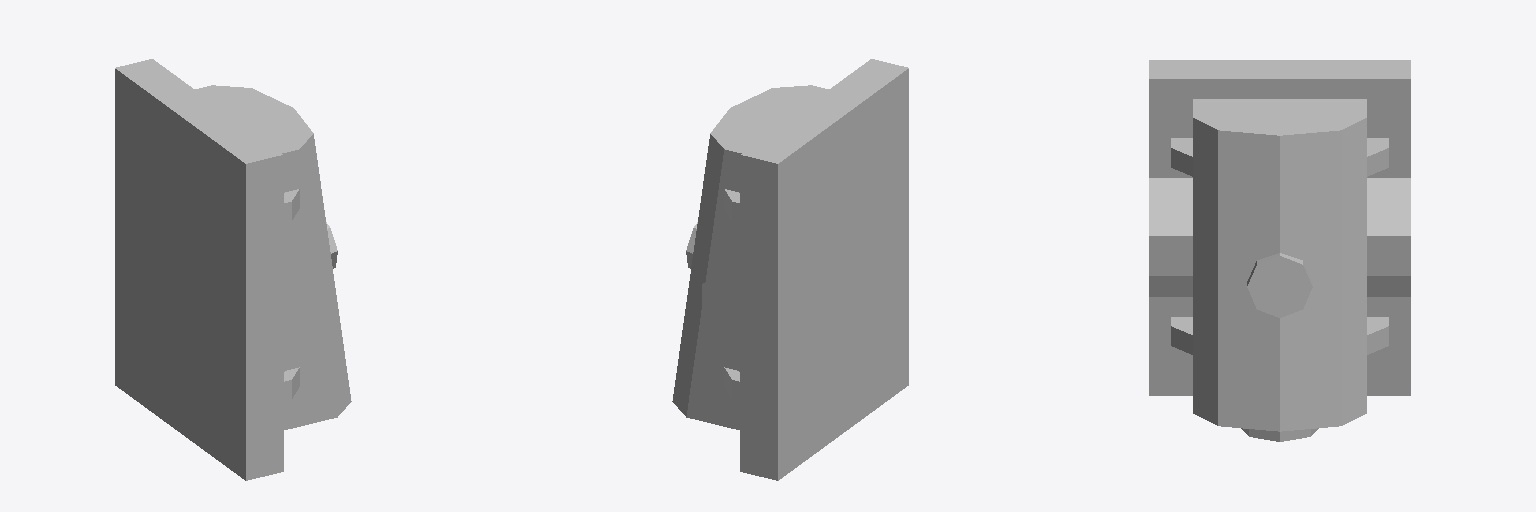
The model's file is charger.obj.
3 renders of one model, left to right at view 1: azimuth 30°, elevation 25°; view 2: azimuth 150°, elevation 25°; view 3: azimuth 270°, elevation 25°, orthographic.
Parts seen in each view (by area): view 1: Base; view 2: Base; view 3: Base, Light, Slide.
Part boxes in pixels (left/top/right/bottom): Base: left=115, top=59, right=351, bottom=480; Base: left=672, top=59, right=908, bottom=480; Base: left=1149, top=60, right=1410, bottom=431; Light: left=1264, top=272, right=1295, bottom=302; Slide: left=1241, top=428, right=1318, bottom=441.
Size of the model in its own units: 0.25 by 0.5 by 0.375.